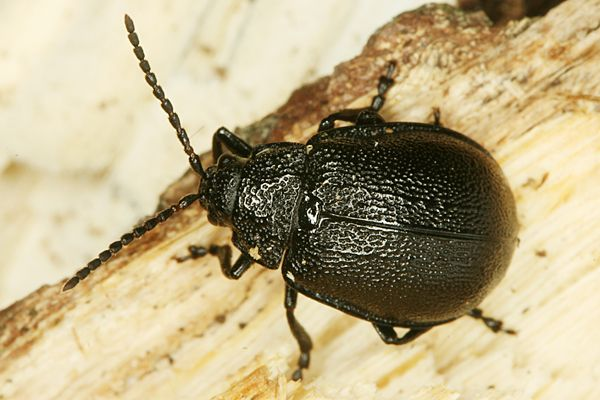Galeruca_tanaceti: (60, 7, 529, 382)
